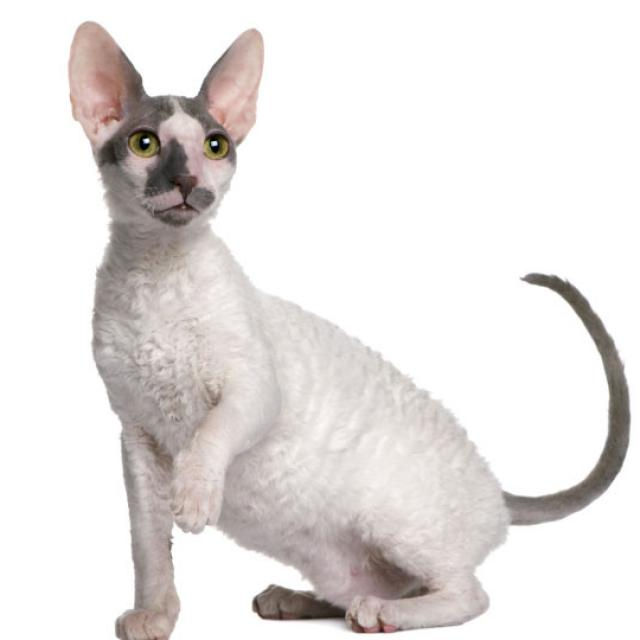Cornish Rex: (59, 12, 639, 640)
